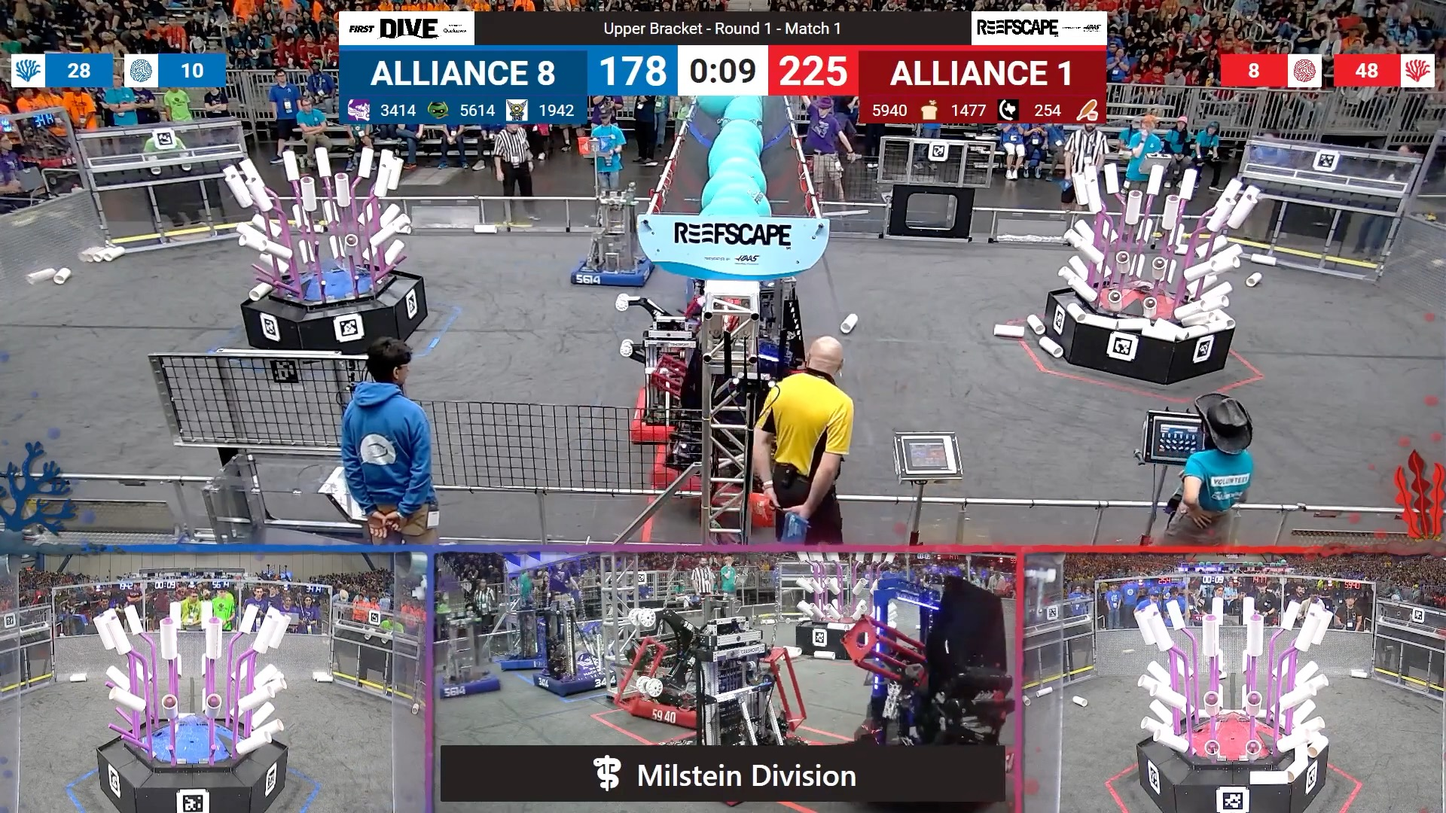bumpers: (566, 253, 658, 292), (522, 667, 619, 699), (621, 694, 705, 729), (437, 671, 505, 702), (500, 653, 558, 673)
